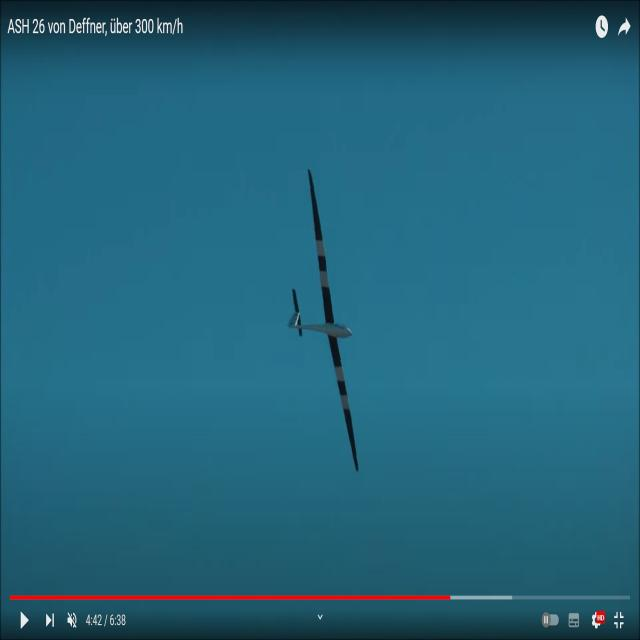iha: (320, 178, 323, 462)
